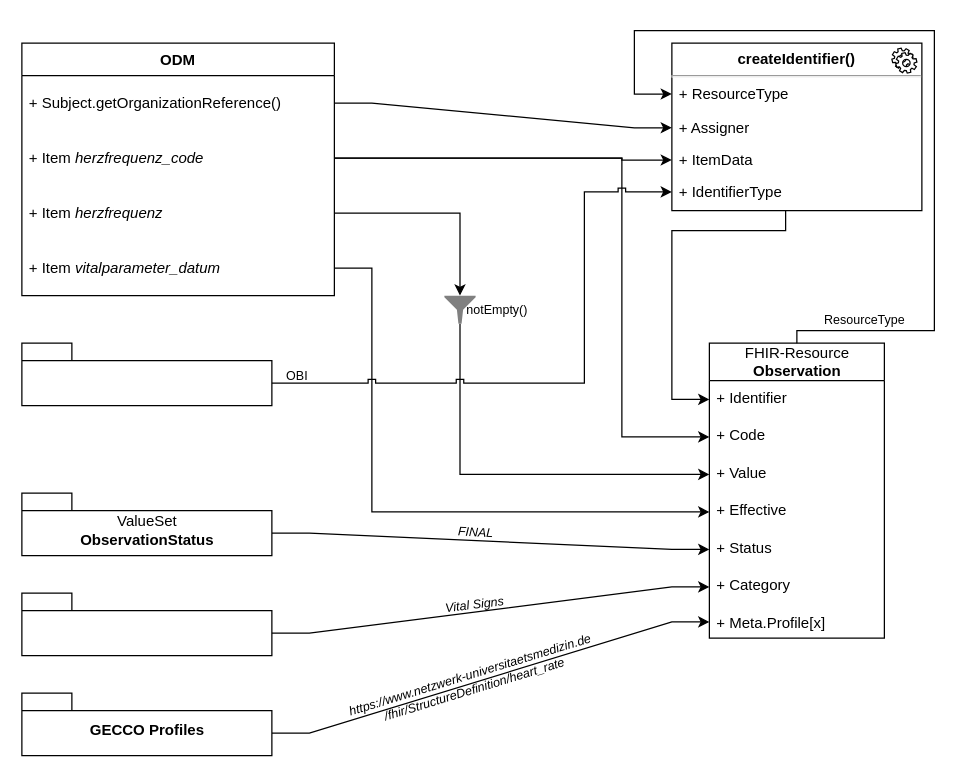
This 966x778 diagram has some shape labels left out. The centre of each missing label's shape, as x and y in pixels:
ValueSet IdentifierTypeCodes: the point at 146,374
ValueSet ObservationCategoryCodes: the point at 146,624
